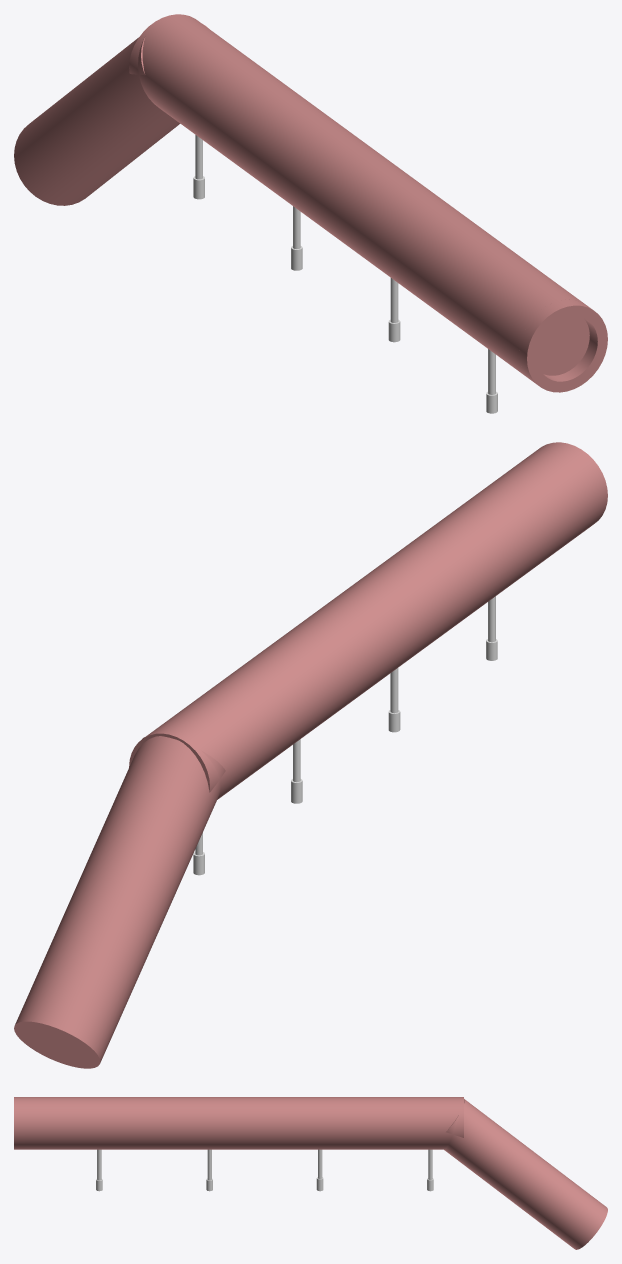
Rendered from tuyeau rust.fbx.
3 views of the same model, one above another, from view 1: azimuth 30°, elevation 25°; view 2: azimuth 150°, elevation 25°; view 3: azimuth 270°, elevation 25° (orthographic). The views are drawn at different scales.
Parts seen in each view (by area): view 1: tuyeau, tuyeau_rampe, boud_tuyeau, poteau_tuyeau_2, poteau_tuyeau_1, poteau_tuyeau, poteau_tuyeau_3; view 2: tuyeau, tuyeau_rampe, boud_tuyeau; view 3: tuyeau, tuyeau_rampe, boud_tuyeau, poteau_tuyeau_1, poteau_tuyeau, poteau_tuyeau_3, poteau_tuyeau_2.
Part boxes in pixels (x1,y1,x2,y2): tuyeau: (129,14,589,378); tuyeau_rampe: (14,24,207,205); boud_tuyeau: (519,299,607,392); poteau_tuyeau_2: (388,278,400,342); poteau_tuyeau_1: (291,206,302,270); poteau_tuyeau: (193,135,204,199); poteau_tuyeau_3: (486,349,497,413); tuyeau: (129,448,599,799); tuyeau_rampe: (14,736,225,1068); boud_tuyeau: (535,442,607,530); tuyeau: (23,1097,463,1149); tuyeau_rampe: (444,1099,607,1249); boud_tuyeau: (14,1097,24,1149); poteau_tuyeau_1: (316,1149,323,1191); poteau_tuyeau: (427,1149,433,1191); poteau_tuyeau_3: (96,1149,102,1191); poteau_tuyeau_2: (206,1149,212,1191).
Bounding box in the file's own units: 240 × 738 × 2695.
